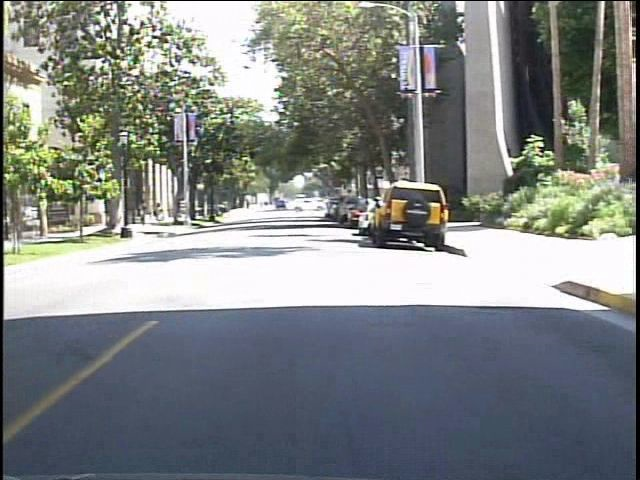person: (144, 196, 164, 229), (126, 195, 144, 229)
